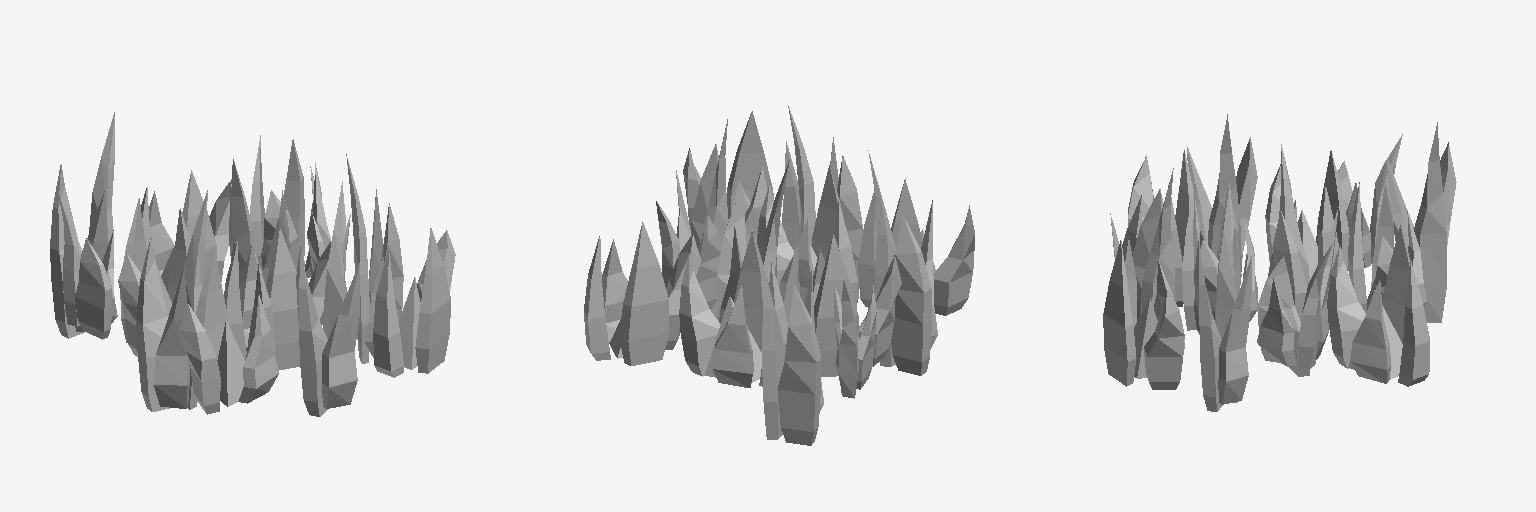
The model's file is grass.obj.
3 views of the same model, side by side, from view 1: azimuth 30°, elevation 25°; view 2: azimuth 150°, elevation 25°; view 3: azimuth 270°, elevation 25° (orthographic).
Visible parts, largest first — view 1: Cube.023; view 2: Cube.023; view 3: Cube.023.
Boxes of the visible parts, box(x1,y1,x2,y2) form: Cube.023: box(50, 112, 455, 416); Cube.023: box(584, 106, 974, 445); Cube.023: box(1103, 114, 1456, 411).
Size of the model in its own units: 5.6 by 3.97 by 6.02.